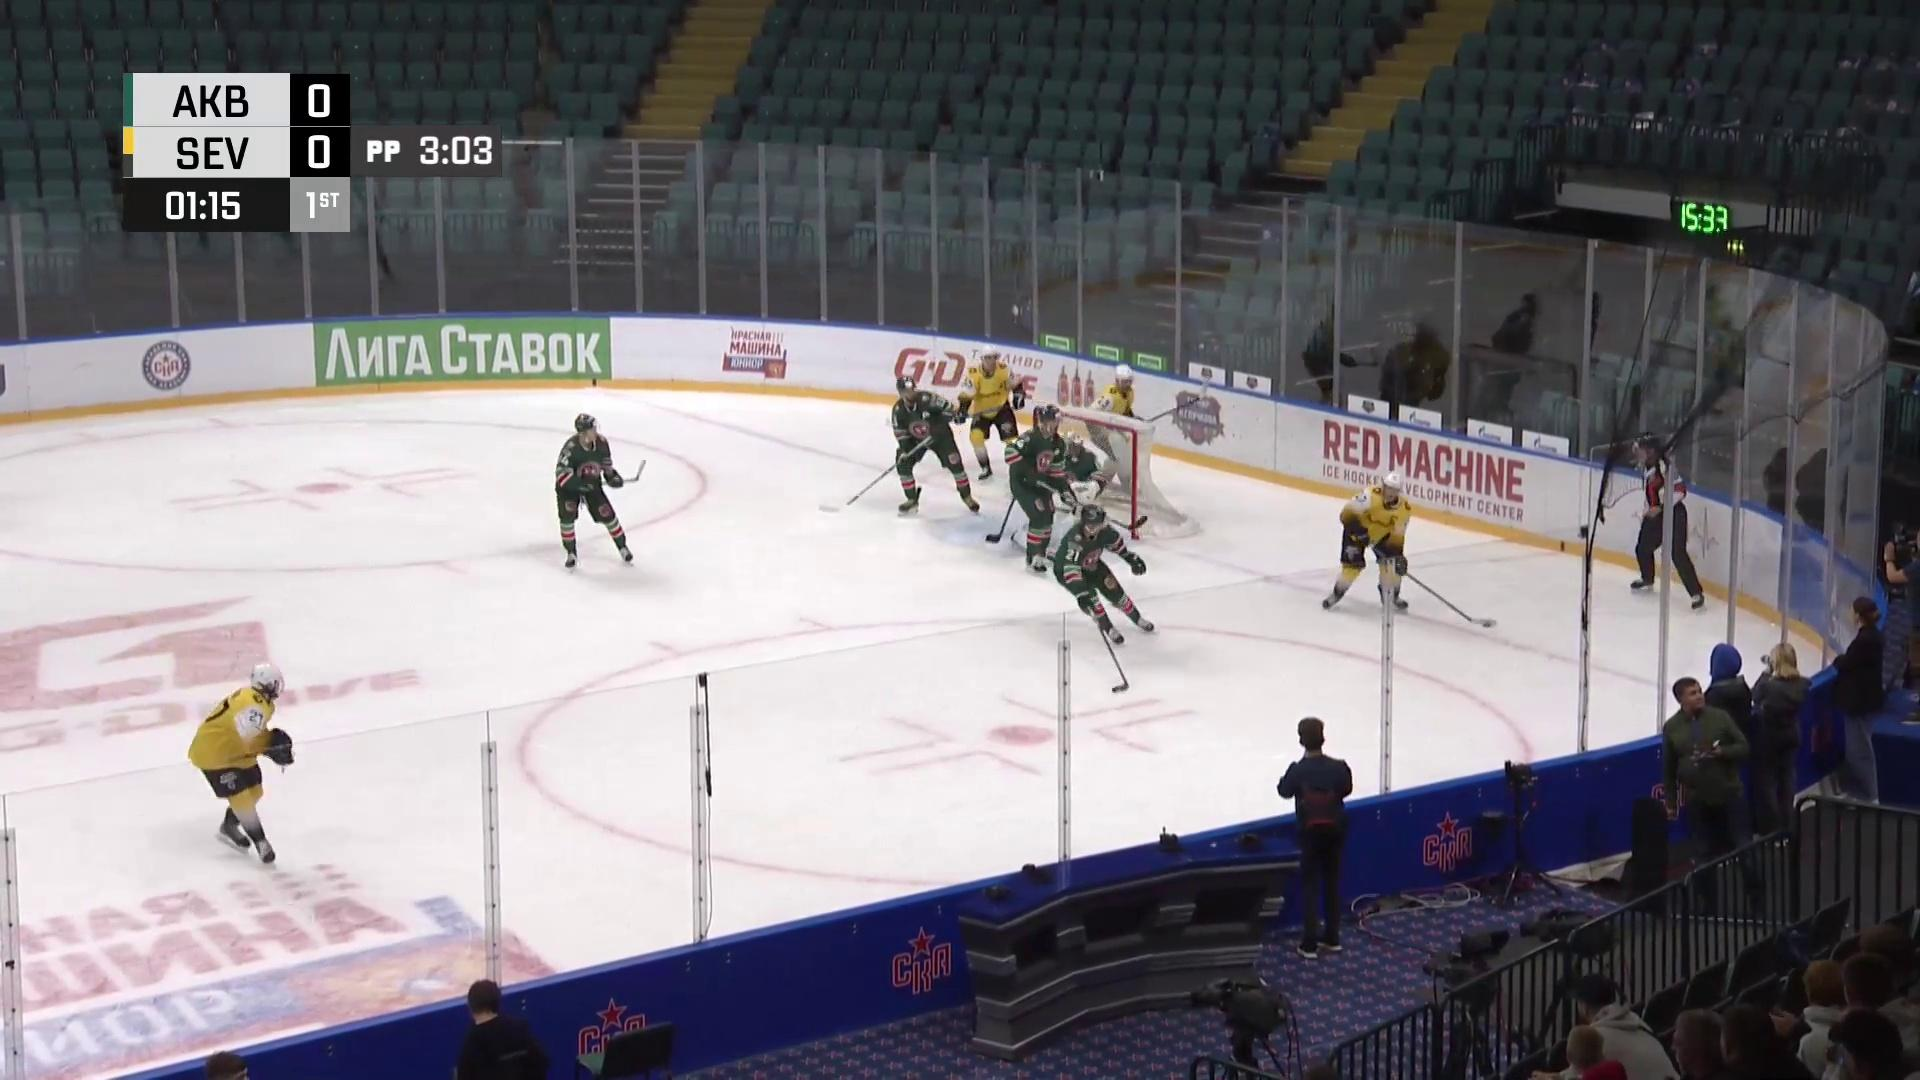ball: (1481, 622, 1491, 629)
